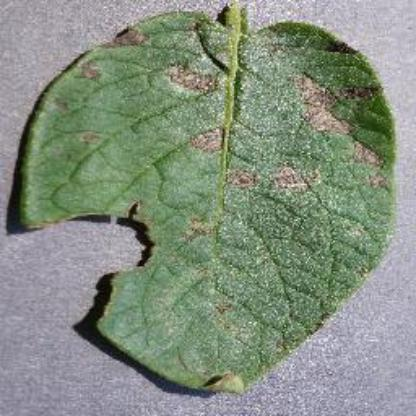Early-Blight: (19, 2, 399, 396)
